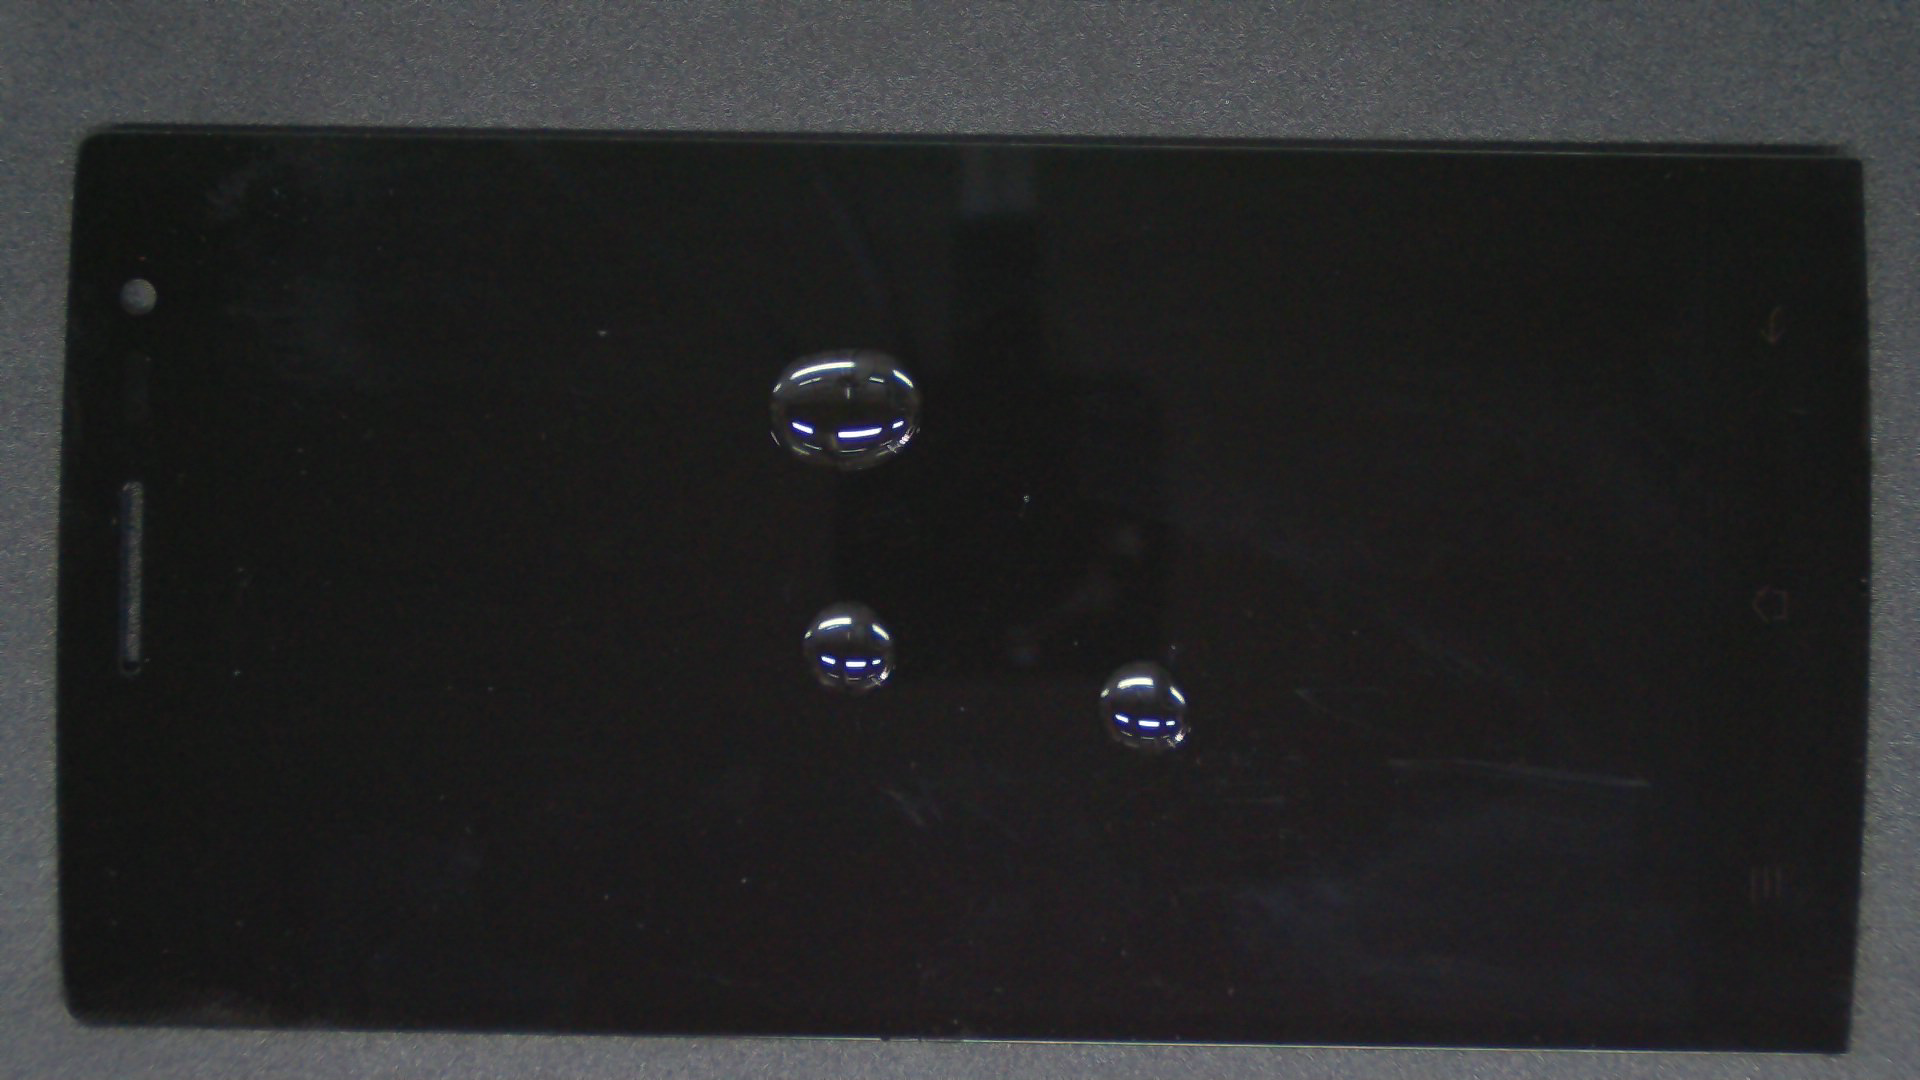defect: (766, 348, 924, 469), (1098, 661, 1192, 752), (802, 601, 894, 690)
